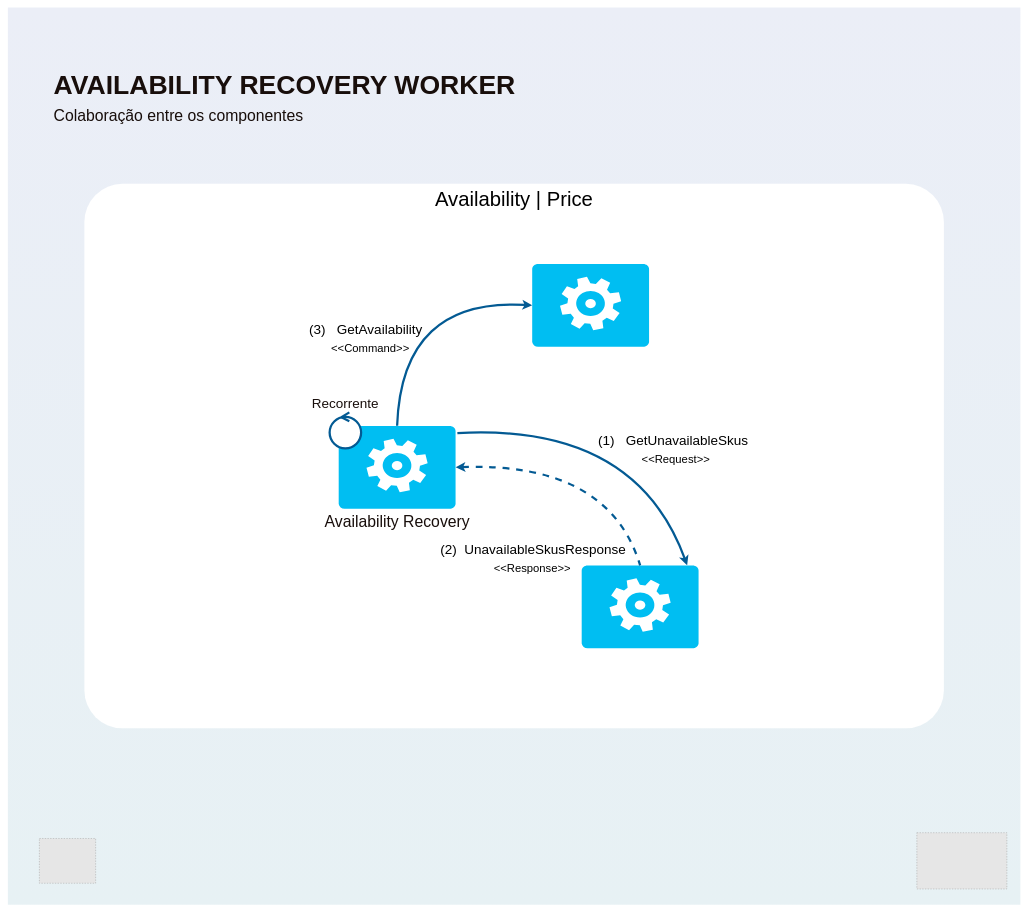
The diagram is 1028 pixels wide and 913 high, and some of its shapes have lost their labels. Grey dashed boxes stand in for pictures. The centre of each missing label's shape, as x and y in pixels:
"Availability Manager" goes at (x=639, y=606).
"Availability Search" goes at (x=590, y=305).
